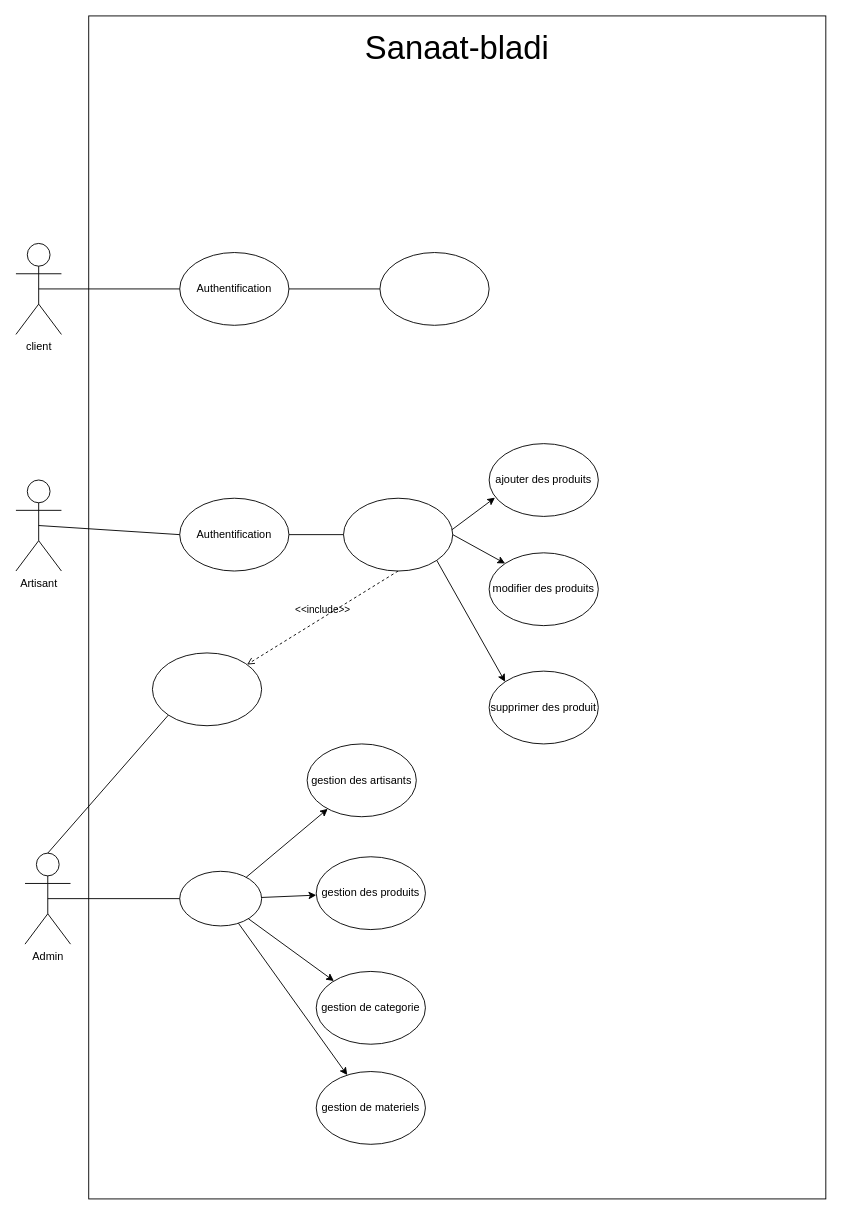
Some shapes in this 842 by 1215 pixel diagram are drawn without their labels. Each missing label, with the centre of its shape:
"accepter" goes at (207,689).
"acheter des produits" goes at (434,288).
"gestion des produit" goes at (398,534).
"Gérer le system" goes at (220,898).
